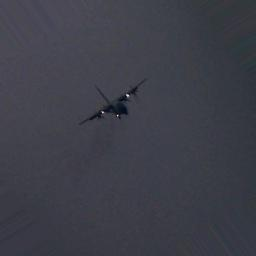Airplane: (75, 77, 149, 127)
